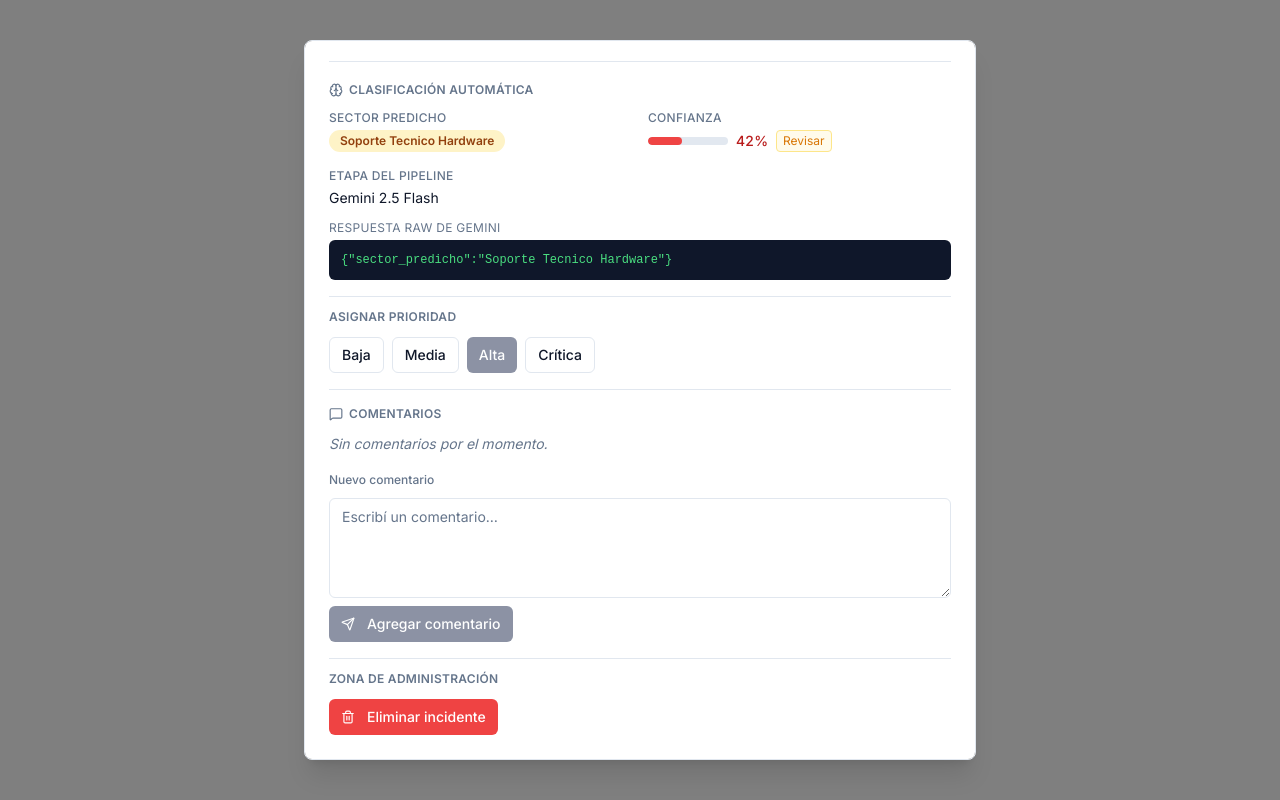
Scenario: TicketDetailDialog - accion de borrado logico (c-87, FR-RBAC-006) › cancelar no invoca el backend y el incidente permanece visible
(page scrolled)
Click the button "Eliminar incidente" at (413, 717), box [329,699,498,735]
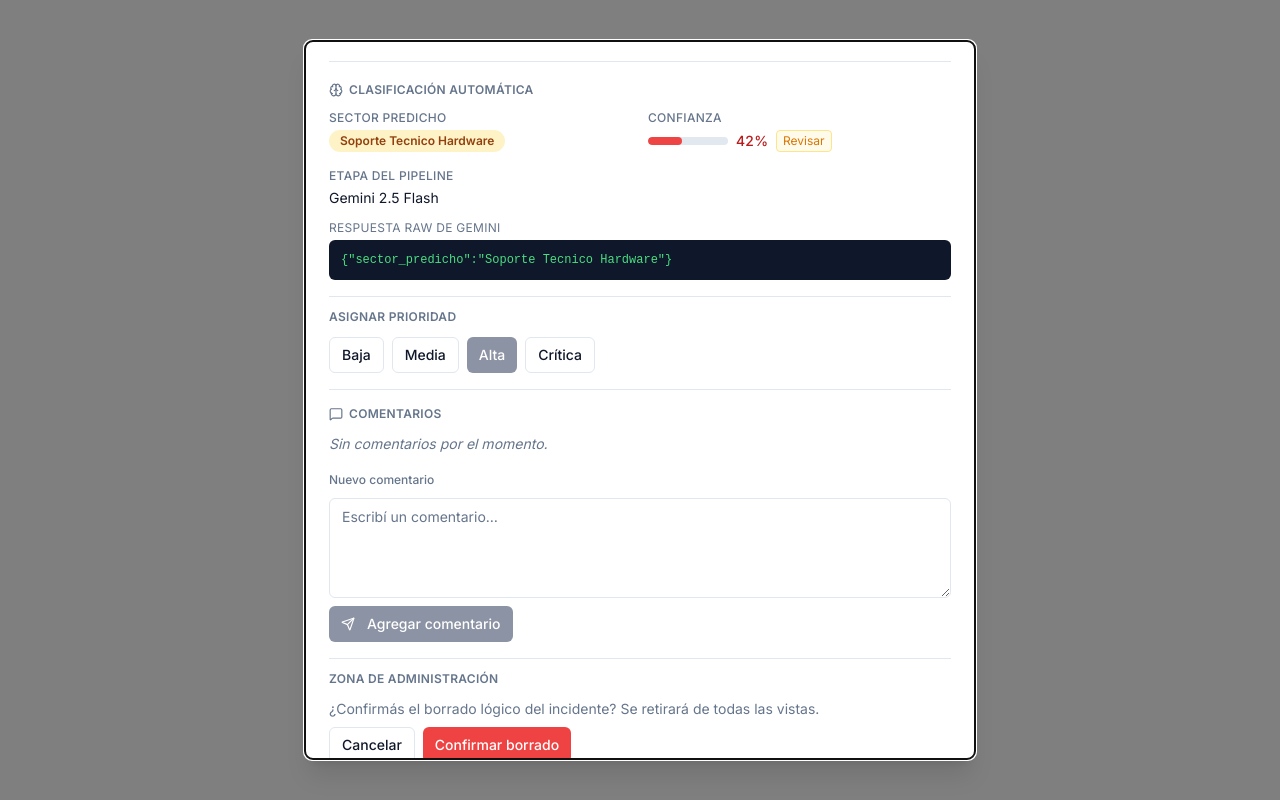
Click the button "Cancelar" at (372, 745), box [329,727,415,763]
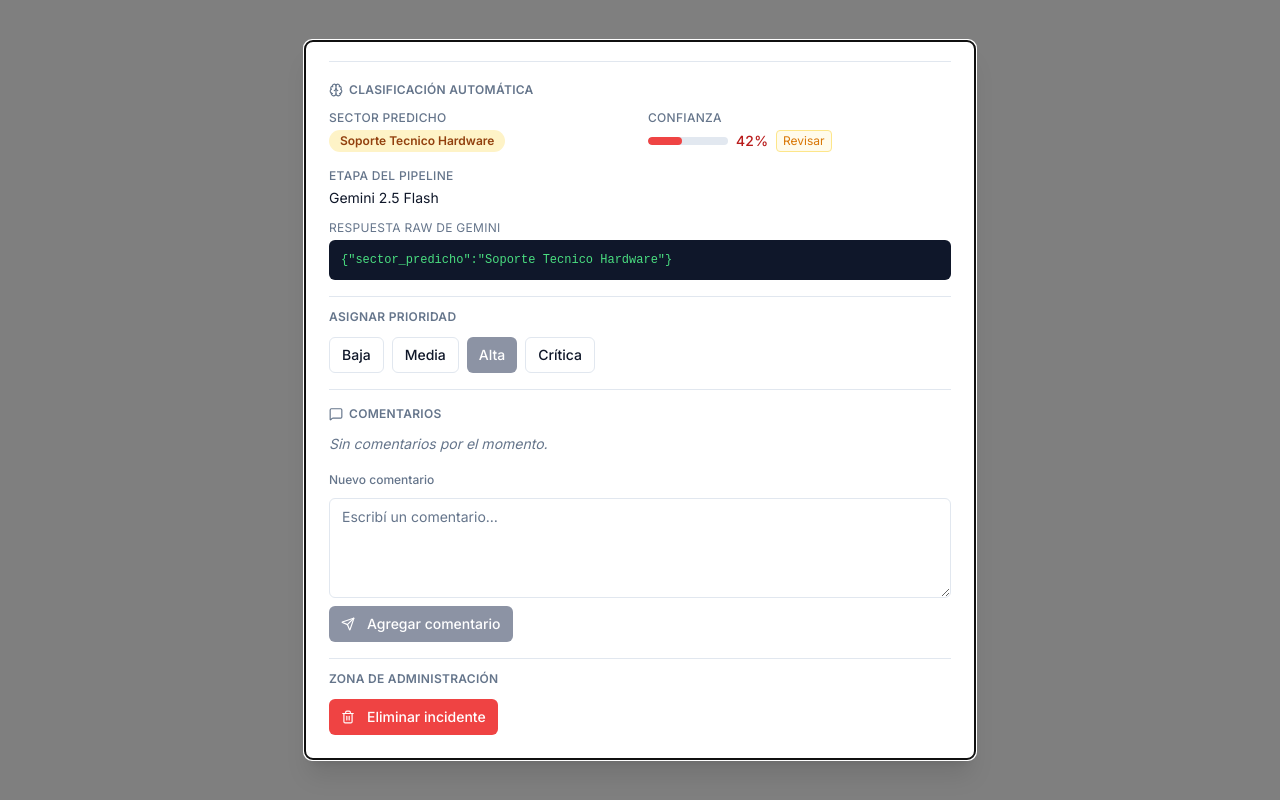
Expected: the button "Eliminar incidente" is shown, [329,699,498,735]
